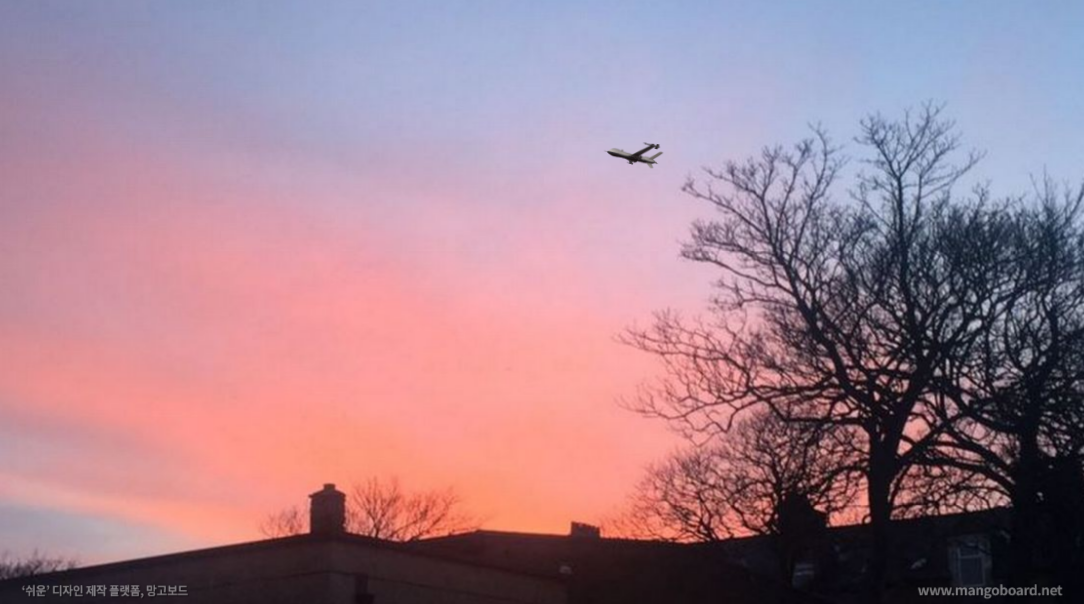military drone: (604, 141, 663, 168)
